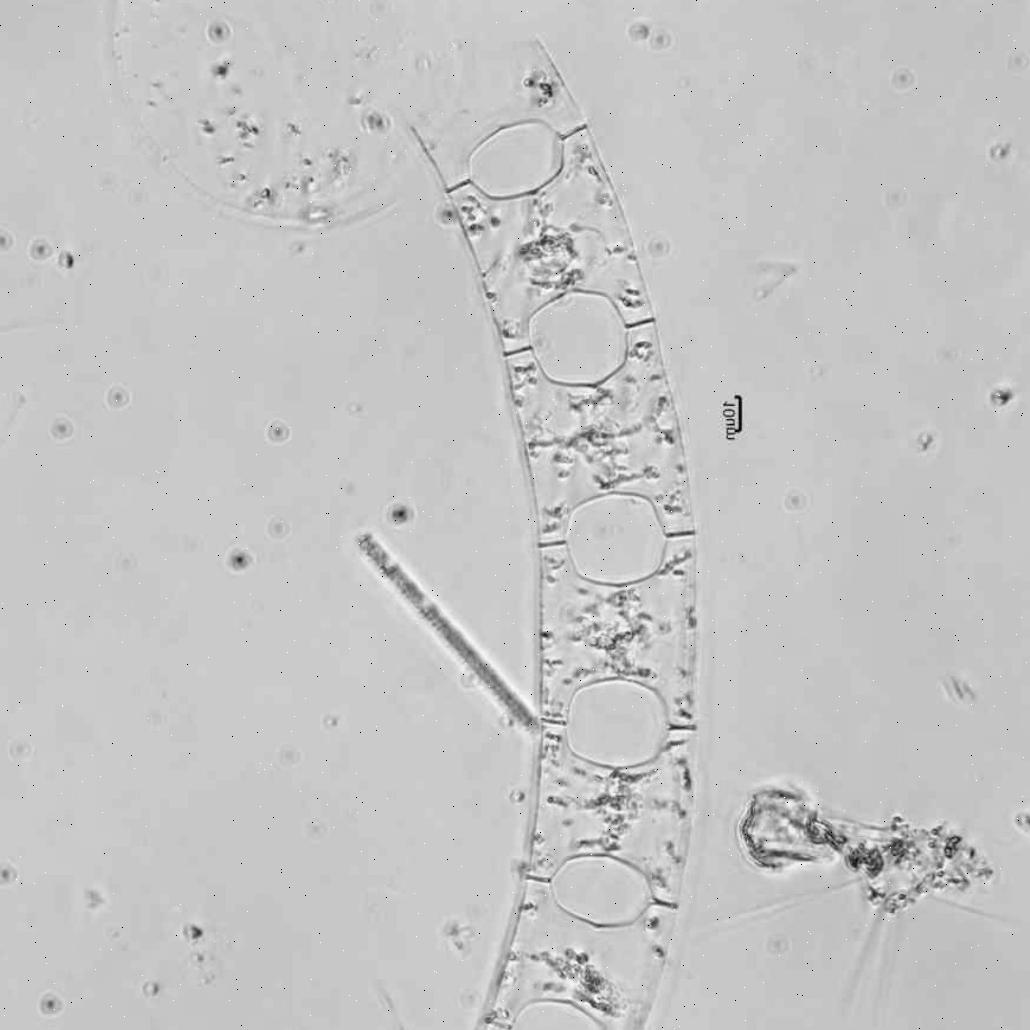eucampia_zodiacus: (409, 40, 702, 1030)
